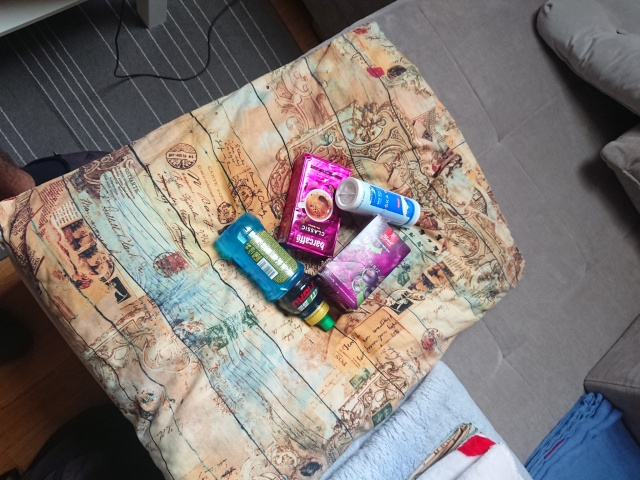Barcaffe Classic Original 225g: (275, 149, 356, 263)
Franck Black Currant Tea 60g: (312, 212, 413, 317)
Solana Pag Fine Sea Salt 250g: (333, 175, 422, 231)
Vindi Iso Sport Forest Strawberries 500mL: (214, 211, 337, 334)
